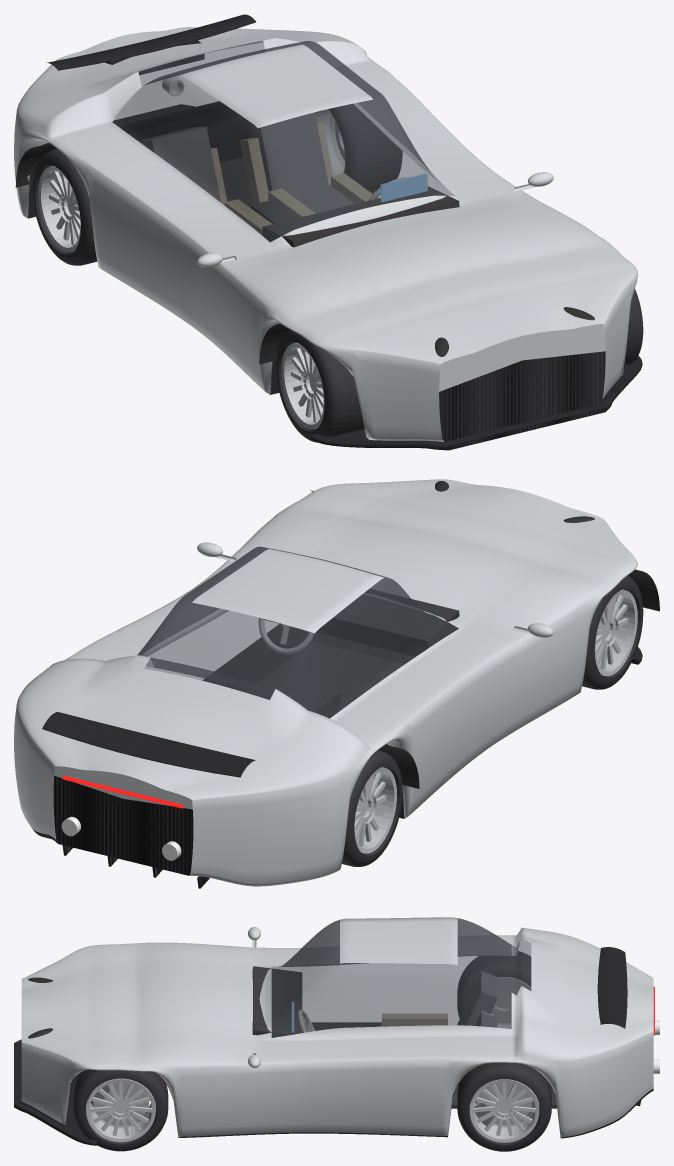
File: aston-martin-one-77.glb
The picture shows the model from 3 angles, top to bottom: view 1: azimuth 30°, elevation 25°; view 2: azimuth 150°, elevation 25°; view 3: azimuth 270°, elevation 25°; orthographic projection. The views are drawn at different scales.
Visible parts, largest first — view 1: Body_PrimaryPaint, Glass_Windows, Carbon_Exterior, Interior_Seats, Tire_FR, Underbody, Interior_SeatBolsters, Tire_RL, Interior_Dashboard, Tire_RR, Rim_FR, Rim_RR (+5 smaller); view 2: Body_PrimaryPaint, Glass_Windows, Carbon_Exterior, Interior_Dashboard, WheelWells, Interior_Tub, Rim_FR, Rim_RR, Tire_RR, Tire_FR, Interior_Console, Interior_SteeringWheel (+1 smaller); view 3: Body_PrimaryPaint, Glass_Windows, Carbon_Exterior, Tire_RL, Tire_FL, Rim_RL, Rim_FL, Interior_Dashboard, Tire_RR, Interior_Seats, Underbody, Interior_SeatBolsters (+4 smaller).
Part boxes in pixels (left/top/right/bottom): Body_PrimaryPaint: left=14, top=27, right=637, bottom=441; Glass_Windows: left=112, top=40, right=455, bottom=242; Carbon_Exterior: left=46, top=14, right=642, bottom=450; Interior_Seats: left=141, top=112, right=354, bottom=213; Tire_FR: left=276, top=329, right=364, bottom=442; Underbody: left=28, top=101, right=620, bottom=402; Interior_SeatBolsters: left=211, top=122, right=377, bottom=235; Tire_RL: left=328, top=104, right=402, bottom=193; Interior_Dashboard: left=262, top=186, right=459, bottom=247; Tire_RR: left=32, top=149, right=97, bottom=265; Rim_FR: left=281, top=342, right=324, bottom=429; Rim_RR: left=38, top=166, right=80, bottom=252; Body_PrimaryPaint: left=14, top=479, right=637, bottom=886; Glass_Windows: left=137, top=546, right=458, bottom=718; Carbon_Exterior: left=42, top=647, right=642, bottom=888; Interior_Dashboard: left=265, top=589, right=459, bottom=656; WheelWells: left=202, top=490, right=659, bottom=788; Interior_Tub: left=245, top=642, right=404, bottom=709; Rim_FR: left=594, top=589, right=637, bottom=676; Rim_RR: left=354, top=767, right=396, bottom=853; Tire_RR: left=341, top=750, right=402, bottom=866; Tire_FR: left=582, top=575, right=643, bottom=689; Interior_Console: left=295, top=686, right=340, bottom=718; Interior_SteeringWheel: left=258, top=618, right=314, bottom=654; Body_PrimaryPaint: left=21, top=917, right=653, bottom=1137; Glass_Windows: left=271, top=918, right=531, bottom=1037; Carbon_Exterior: left=14, top=947, right=641, bottom=1145; Tire_RL: left=457, top=1062, right=551, bottom=1151; Tire_FL: left=73, top=1069, right=168, bottom=1151; Rim_RL: left=469, top=1079, right=539, bottom=1142; Rim_FL: left=86, top=1078, right=155, bottom=1142; Interior_Dashboard: left=252, top=966, right=302, bottom=1037; Tire_RR: left=457, top=951, right=531, bottom=1018; Interior_Seats: left=380, top=971, right=497, bottom=1102; Underbody: left=21, top=1063, right=653, bottom=1138; Interior_SeatBolsters: left=382, top=1011, right=493, bottom=1101.
Size of the model in its own units: 2.37 by 1.22 by 4.7.
Materials: 16 (2 with a texture image).
